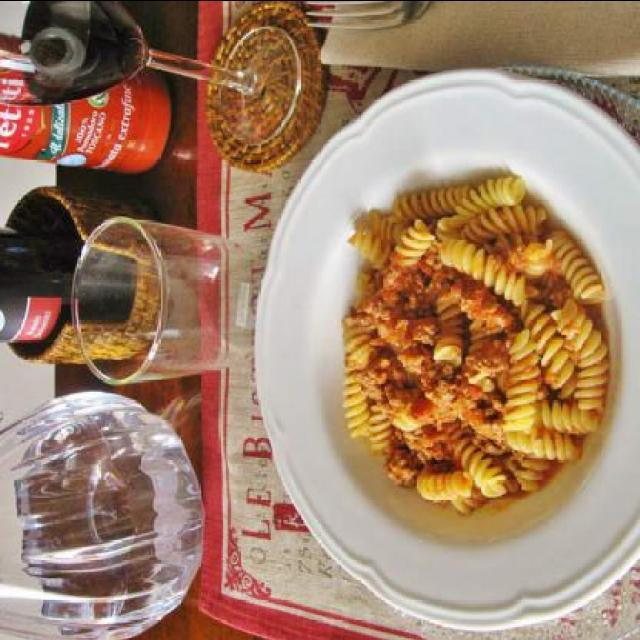Pasta al ragu: (295, 115, 597, 558)
